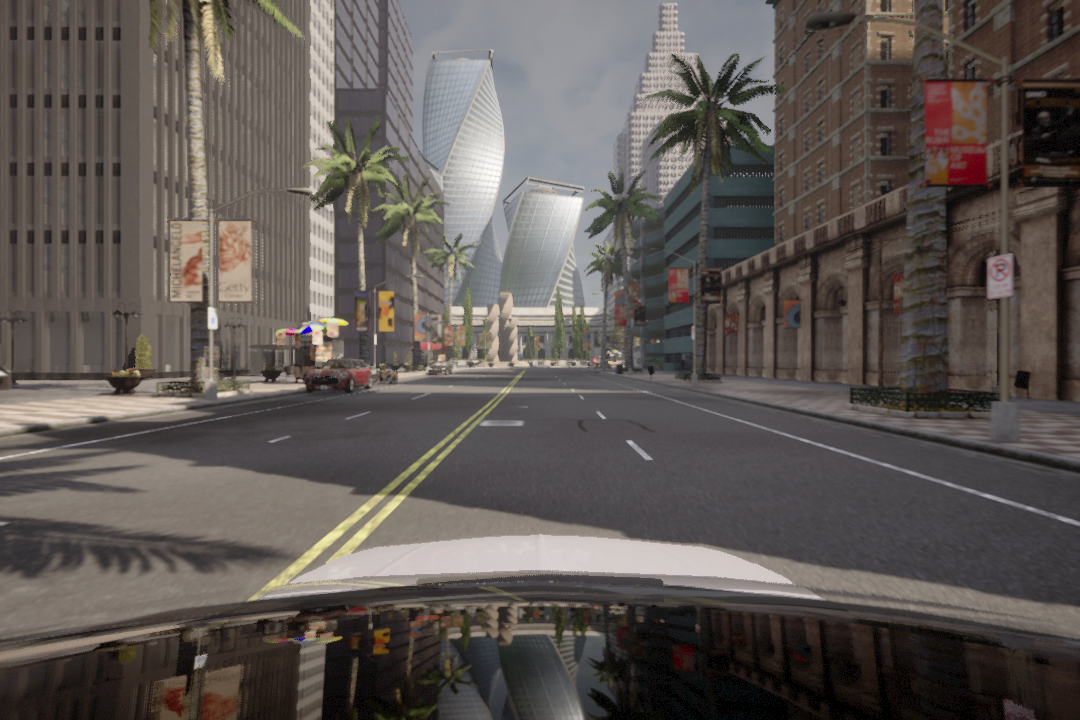TrafficSign_nstop: (984, 257, 1017, 297)
